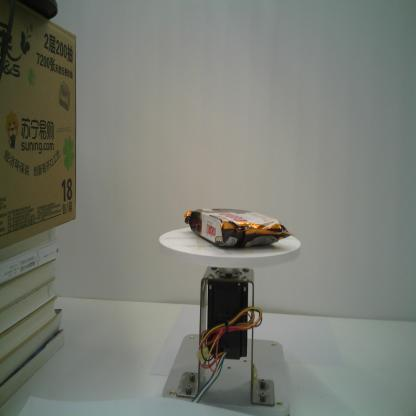Dessert: (183, 204, 296, 250)
